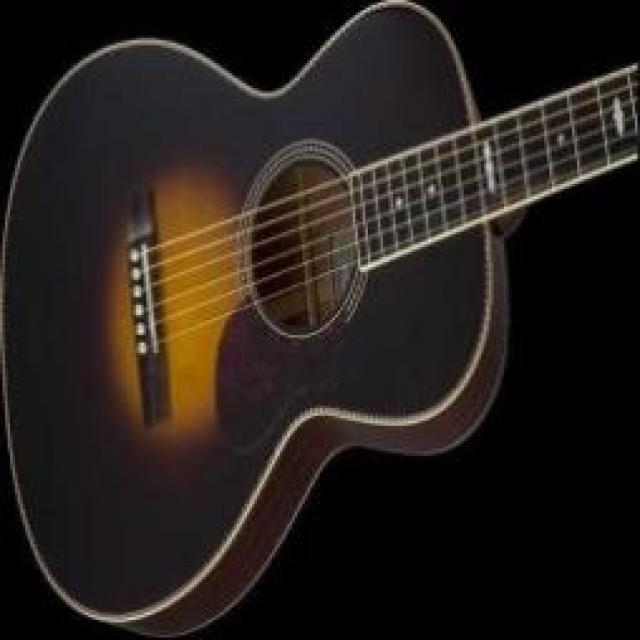acousticguitar: (0, 3, 637, 635)
